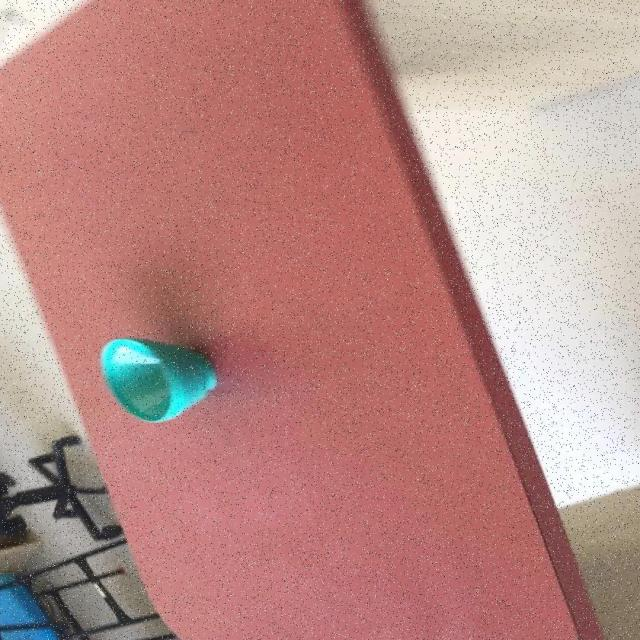Bowl: (0, 0, 612, 640), (101, 337, 220, 422)
